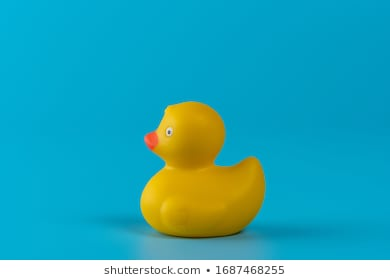duck: (122, 84, 281, 251)
